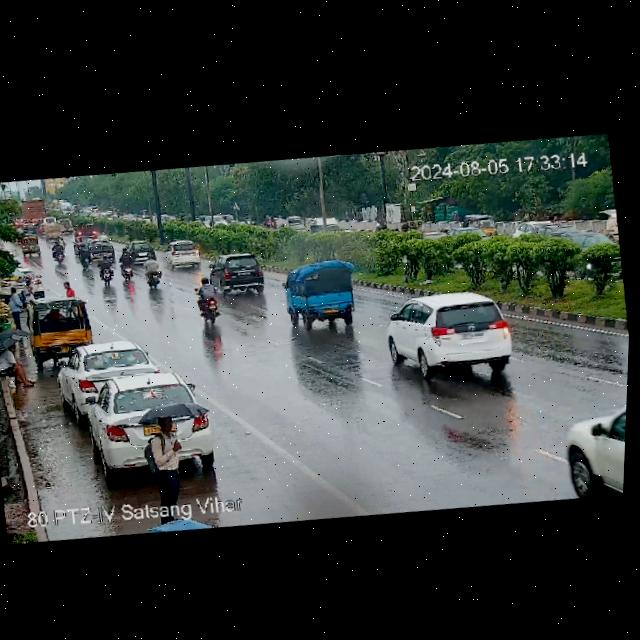car: (377, 275, 524, 390), (77, 365, 206, 475), (57, 337, 162, 416), (558, 395, 627, 502), (23, 292, 99, 365), (207, 250, 268, 300), (0, 262, 44, 297), (161, 237, 203, 272), (120, 236, 156, 265), (17, 234, 43, 260), (90, 236, 116, 259), (72, 233, 99, 255), (73, 221, 99, 241)
motorcycle: (190, 278, 224, 327), (142, 258, 167, 292), (95, 255, 119, 286), (74, 240, 95, 271), (117, 255, 139, 284)
person: (145, 412, 194, 502), (0, 341, 41, 395), (7, 287, 25, 332), (60, 281, 80, 297), (23, 280, 36, 302)
truck: (281, 253, 365, 334)
